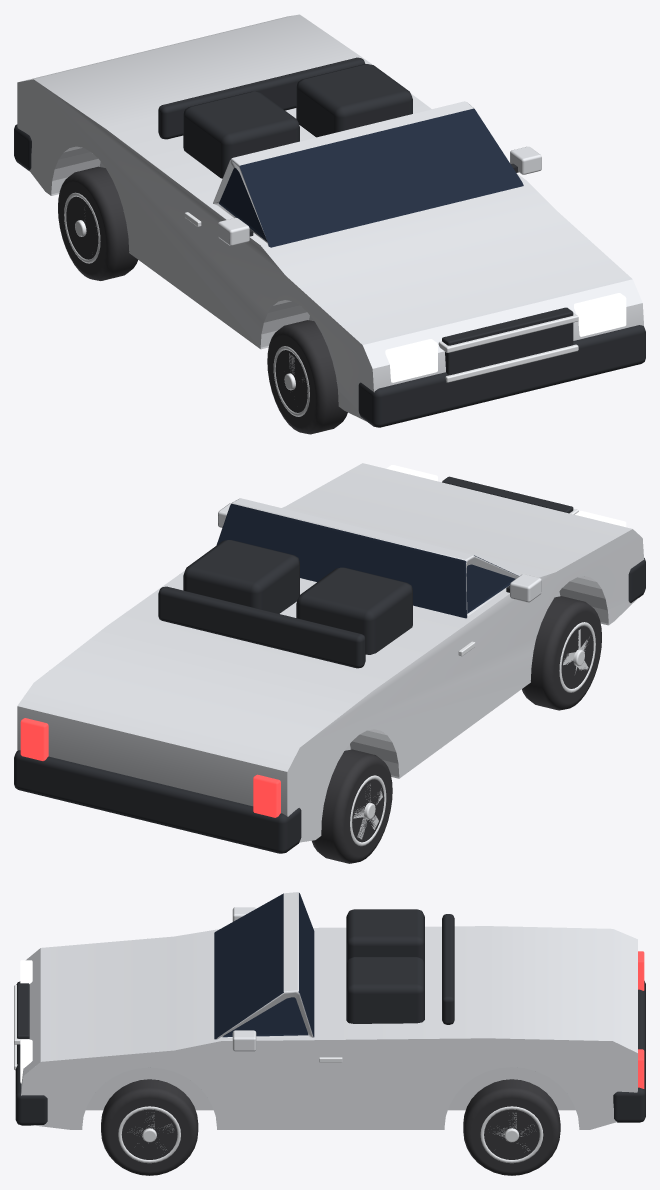
File: convertible.glb
3 renders of one model, top to bottom at view 1: azimuth 30°, elevation 25°; view 2: azimuth 150°, elevation 25°; view 3: azimuth 270°, elevation 25°, orthographic. The views are drawn at different scales.
Visible parts, largest first — view 1: body_paint, body_trim, wheel_FR, wheel_RR; view 2: body_paint, body_trim, wheel_RR, wheel_FR; view 3: body_paint, body_trim, wheel_RL, wheel_FL.
Part boxes in pixels (x1,y1,x2,y2): body_paint: (17,14,644,421); body_trim: (14,57,645,427); wheel_FR: (267,320,347,434); wheel_RR: (58,166,137,280); body_paint: (17,463,644,842); body_trim: (14,465,645,853); wheel_RR: (312,749,392,863); wheel_FR: (522,596,601,710); body_paint: (21,892,637,1129); body_trim: (14,893,645,1125); wheel_RL: (463,1079,560,1175); wheel_FL: (101,1079,198,1175).
Size of the model in its own units: 1.99 by 1.25 by 4.03.
